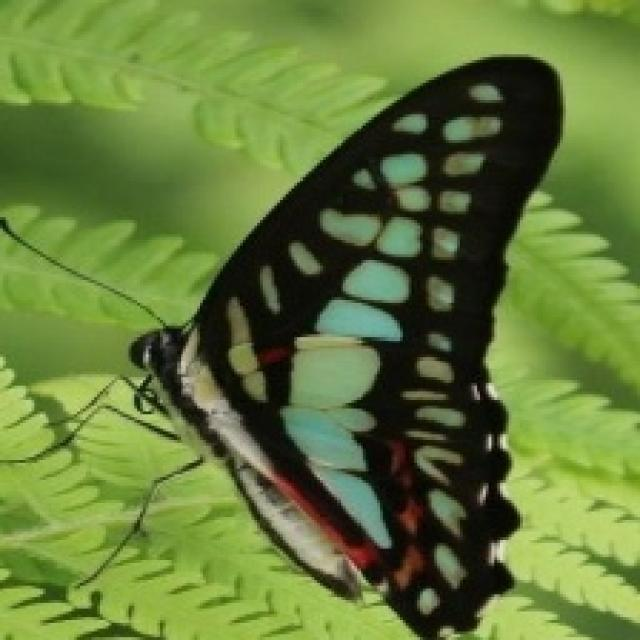butterfly: (0, 49, 563, 637)
